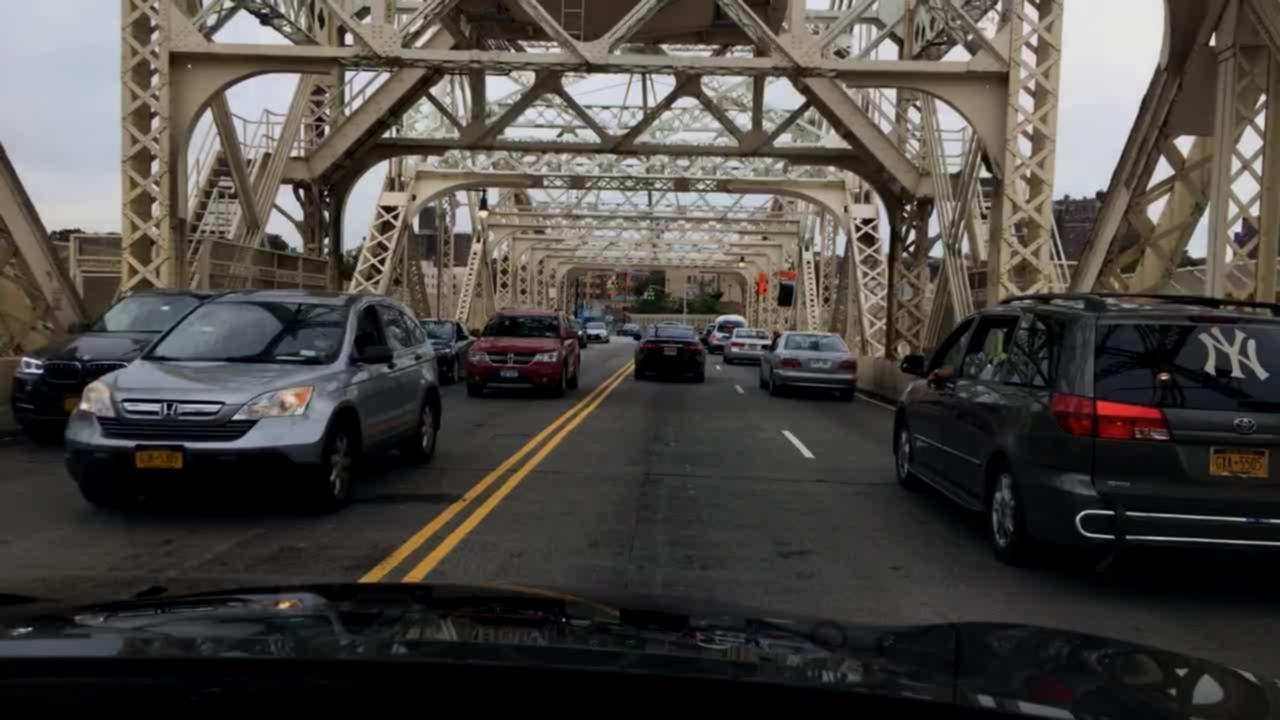Honda: (152, 395, 185, 425)
Toyota: (1223, 410, 1265, 441)
